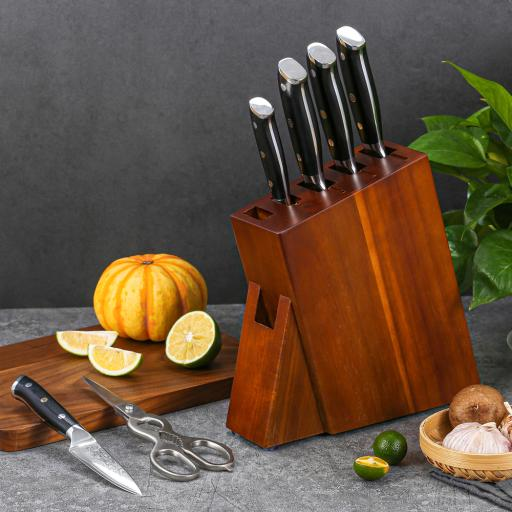knife: (5, 368, 156, 508)
